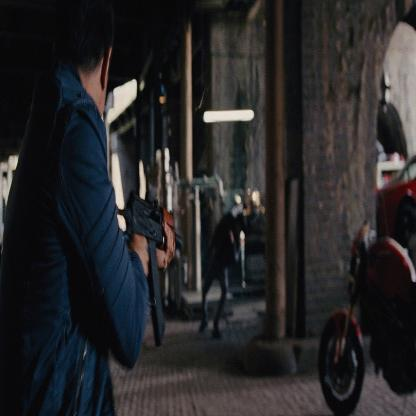gun: (120, 159, 190, 335)
